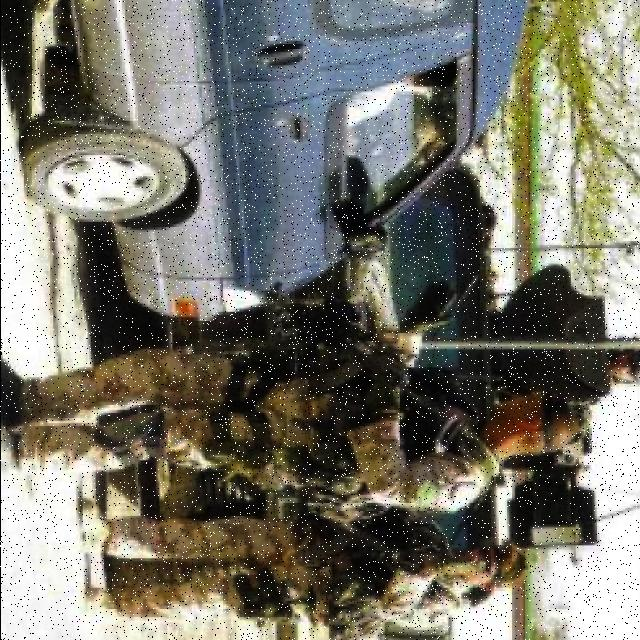Rifle: (265, 284, 465, 456), (306, 507, 419, 577)
